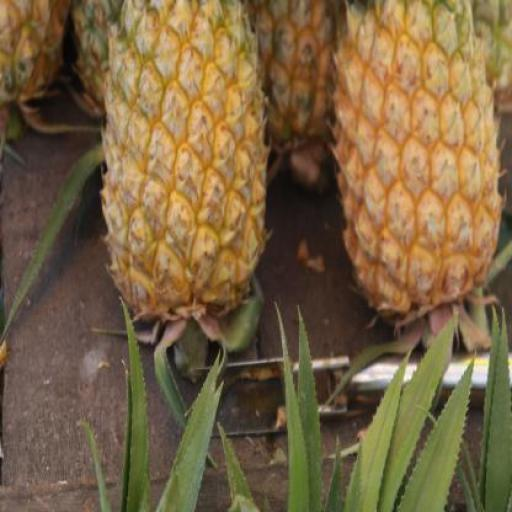Pineapple - v8 v1: (94, 1, 269, 318), (336, 1, 505, 313)
